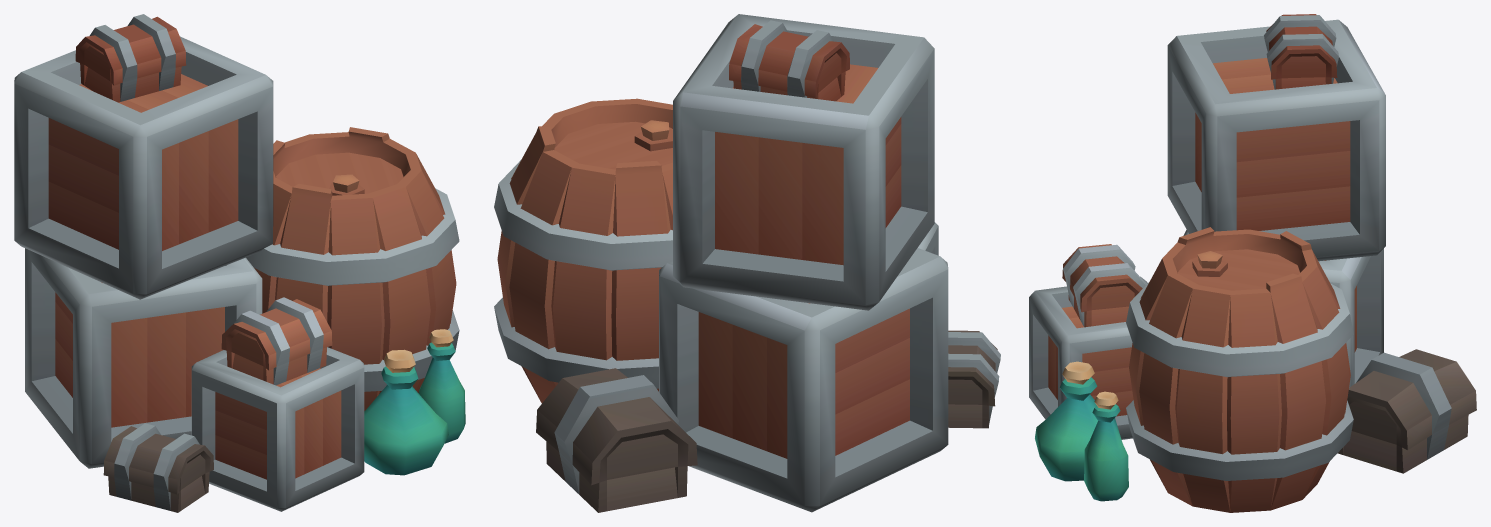
The model's file is box_stacked.glb.
The picture shows the model from 3 angles, left to right: view 1: azimuth 30°, elevation 25°; view 2: azimuth 150°, elevation 25°; view 3: azimuth 270°, elevation 25°; orthographic projection. The views are drawn at different scales.
Parts seen in each view (by area): view 1: box_stacked; view 2: box_stacked; view 3: box_stacked.
Boxes of the visible parts, x1,y1,x2,y2 form: box_stacked: (14, 14, 465, 512); box_stacked: (494, 14, 1000, 512); box_stacked: (1029, 14, 1476, 512).
Size of the model in its own units: 3.48 by 3.31 by 3.63.
Materials: 1 (1 with a texture image).
